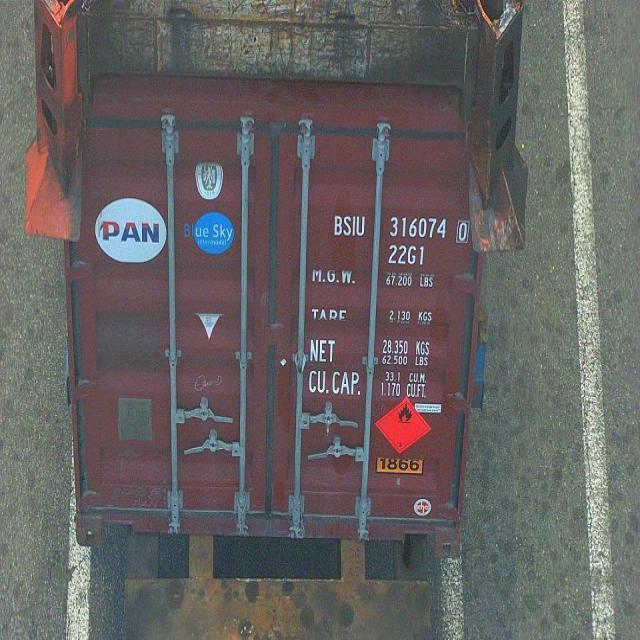ISO: (388, 244, 427, 266)
container_number: (331, 216, 467, 244)
